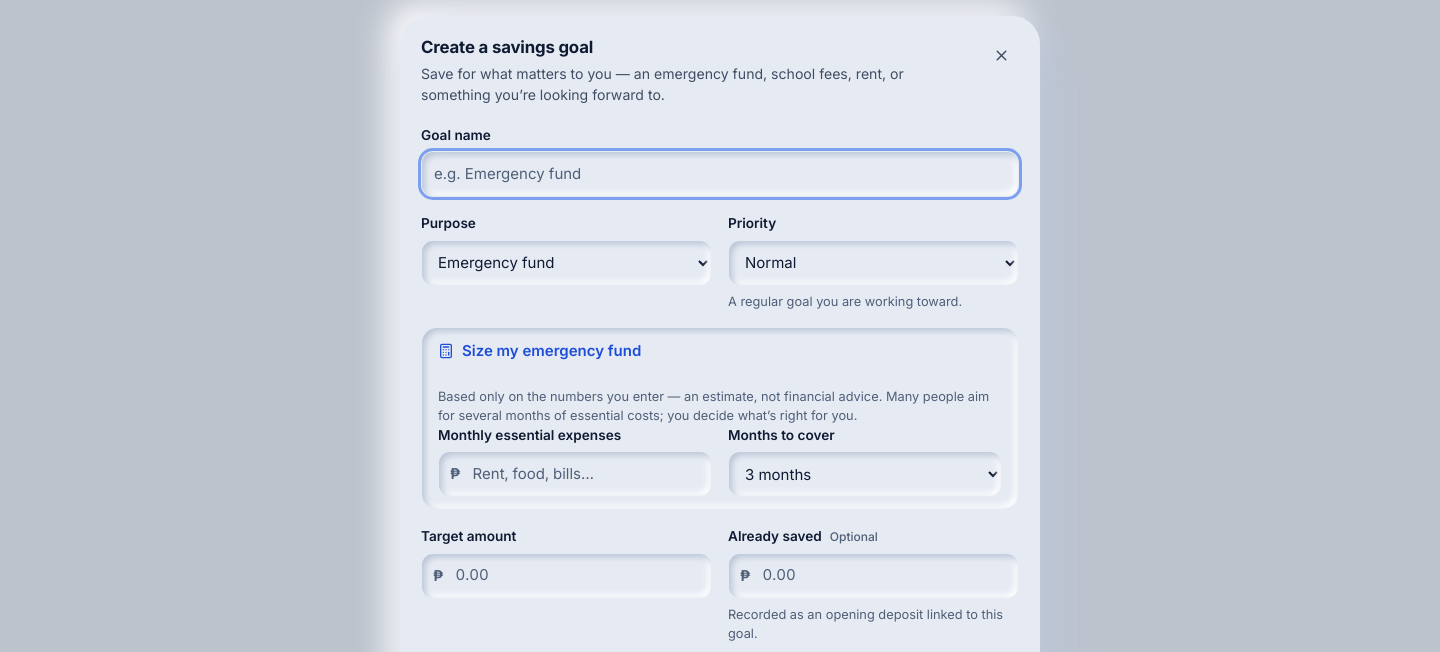
Test: GoalModal › sizes an emergency fund from the user’s own expenses and fills the target
This screenshot has width=1440, height=652.
In the number field labelled "Monthly essential expenses": x=575, y=474 top-left (438, 451), bottom-right (712, 497), type "10000"
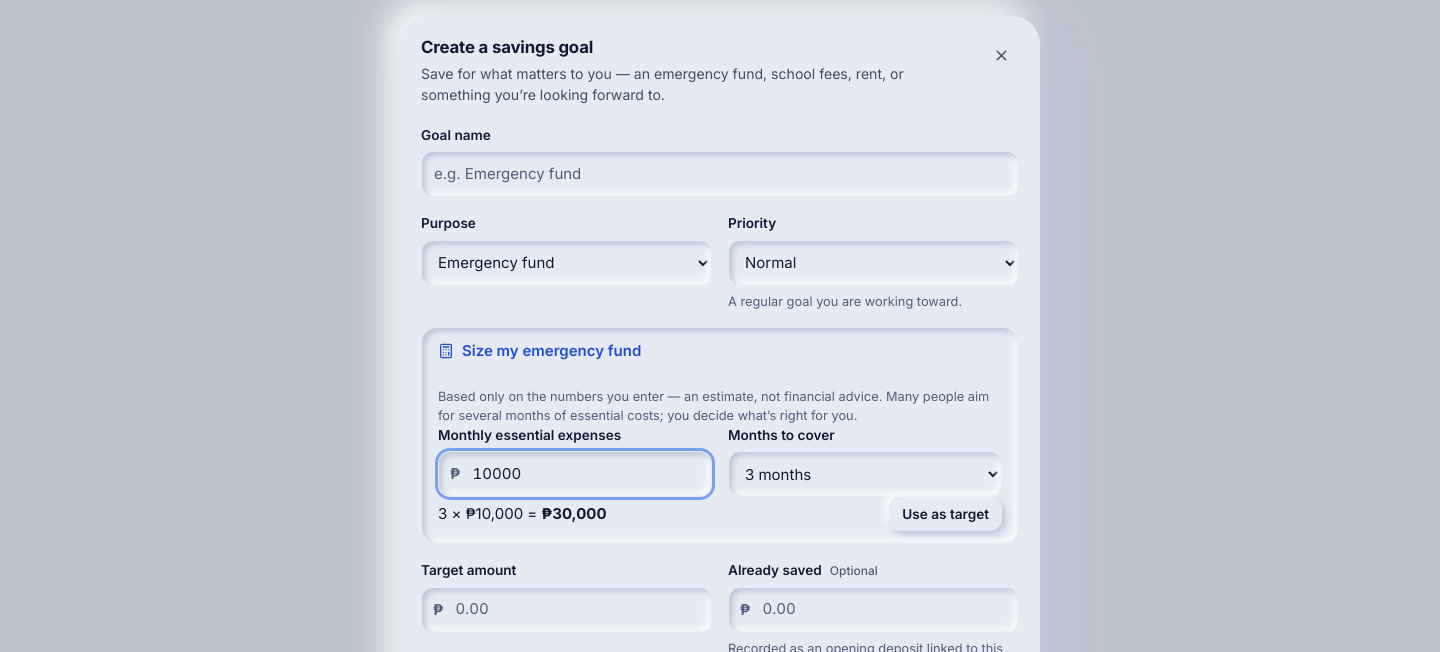
Expected: the text "3 × ₱10,000 = ₱30,000" is shown, top-left (438, 503), bottom-right (606, 526)
Click the button "Use as target": x=946, y=514 top-left (889, 497), bottom-right (1002, 531)
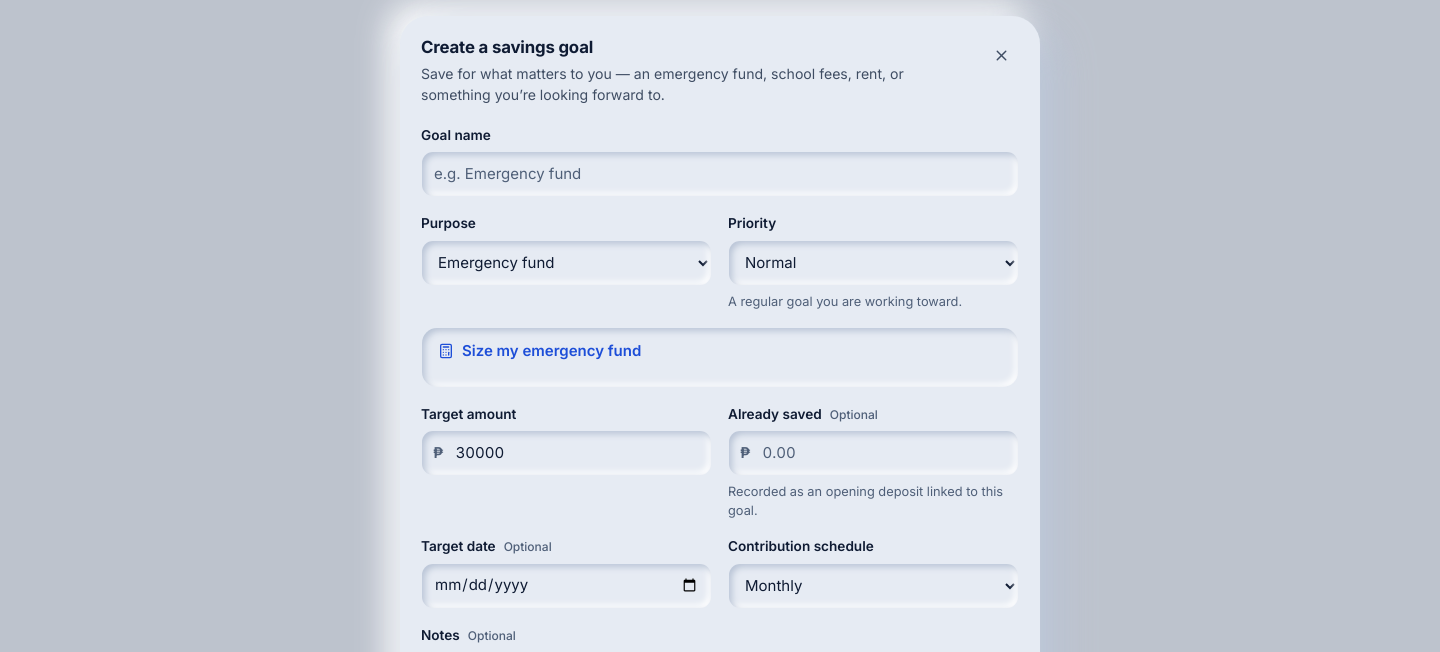
Expected: the number field labelled "Target amount" holds "30000", top-left (421, 430), bottom-right (712, 476)
